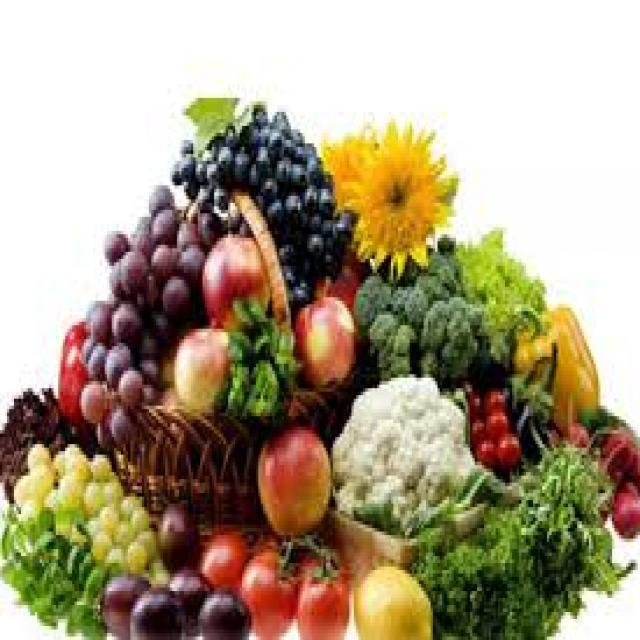organic waste: (403, 434, 633, 636), (170, 101, 349, 298), (330, 370, 496, 532), (11, 437, 168, 581), (321, 119, 452, 269), (349, 231, 480, 378), (0, 511, 119, 636), (454, 224, 542, 357), (510, 300, 596, 426), (254, 416, 328, 539), (0, 384, 70, 510), (195, 228, 268, 326), (352, 563, 431, 637), (238, 542, 296, 637), (293, 546, 347, 636), (512, 339, 552, 458), (198, 521, 247, 588), (154, 493, 196, 567), (100, 566, 144, 636), (128, 584, 186, 637), (168, 563, 210, 633), (58, 318, 86, 420), (577, 402, 638, 448), (182, 91, 246, 133), (196, 588, 247, 636), (602, 423, 638, 479), (116, 241, 149, 294), (610, 476, 638, 532), (107, 297, 144, 336), (100, 339, 130, 385), (77, 381, 109, 420), (156, 273, 188, 311), (172, 242, 205, 276), (114, 364, 140, 406), (144, 175, 172, 213), (146, 203, 174, 241), (135, 266, 163, 304), (84, 298, 109, 340), (130, 206, 152, 252), (191, 206, 219, 242), (561, 412, 586, 448), (107, 406, 133, 440), (147, 301, 172, 336), (479, 381, 503, 416), (104, 259, 126, 297), (172, 217, 198, 248), (149, 238, 172, 273), (493, 430, 517, 462), (100, 227, 123, 259), (84, 339, 105, 374), (466, 409, 484, 448), (95, 412, 114, 448), (484, 406, 505, 437), (133, 353, 158, 378), (135, 325, 163, 346), (475, 434, 491, 465), (140, 378, 163, 398), (466, 384, 480, 406), (81, 336, 91, 356)
